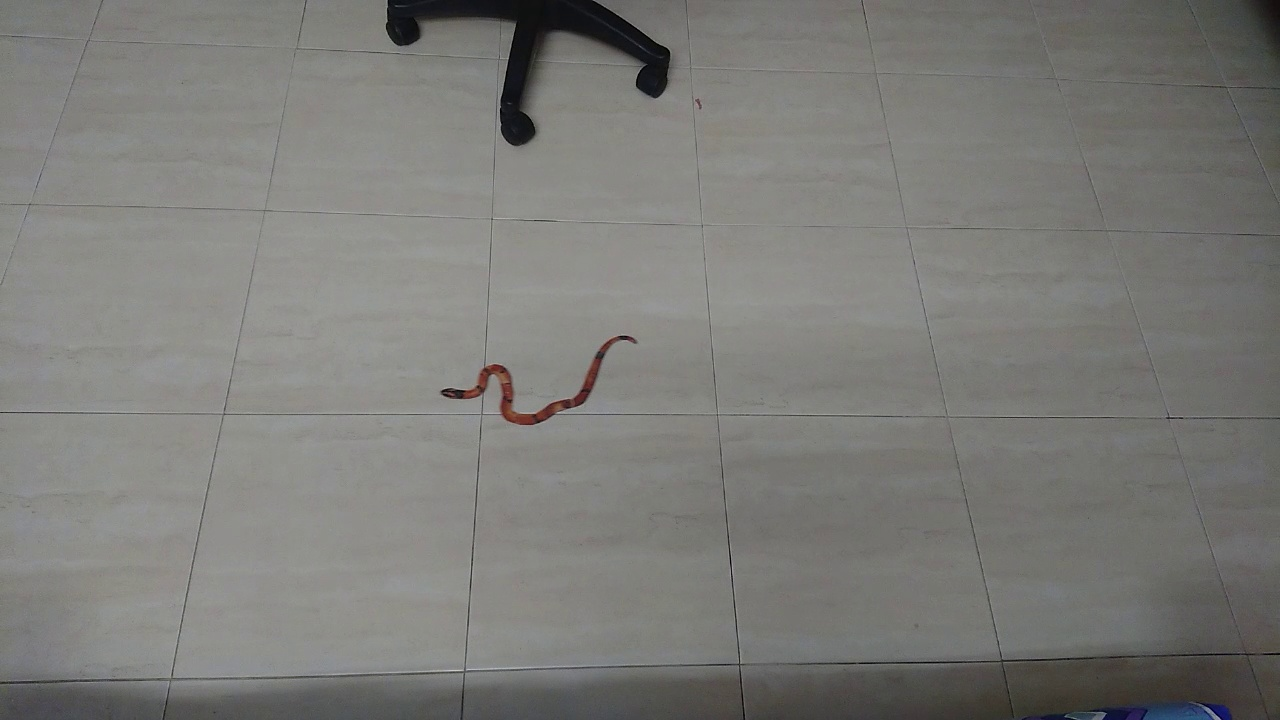snake: (429, 317, 655, 448)
